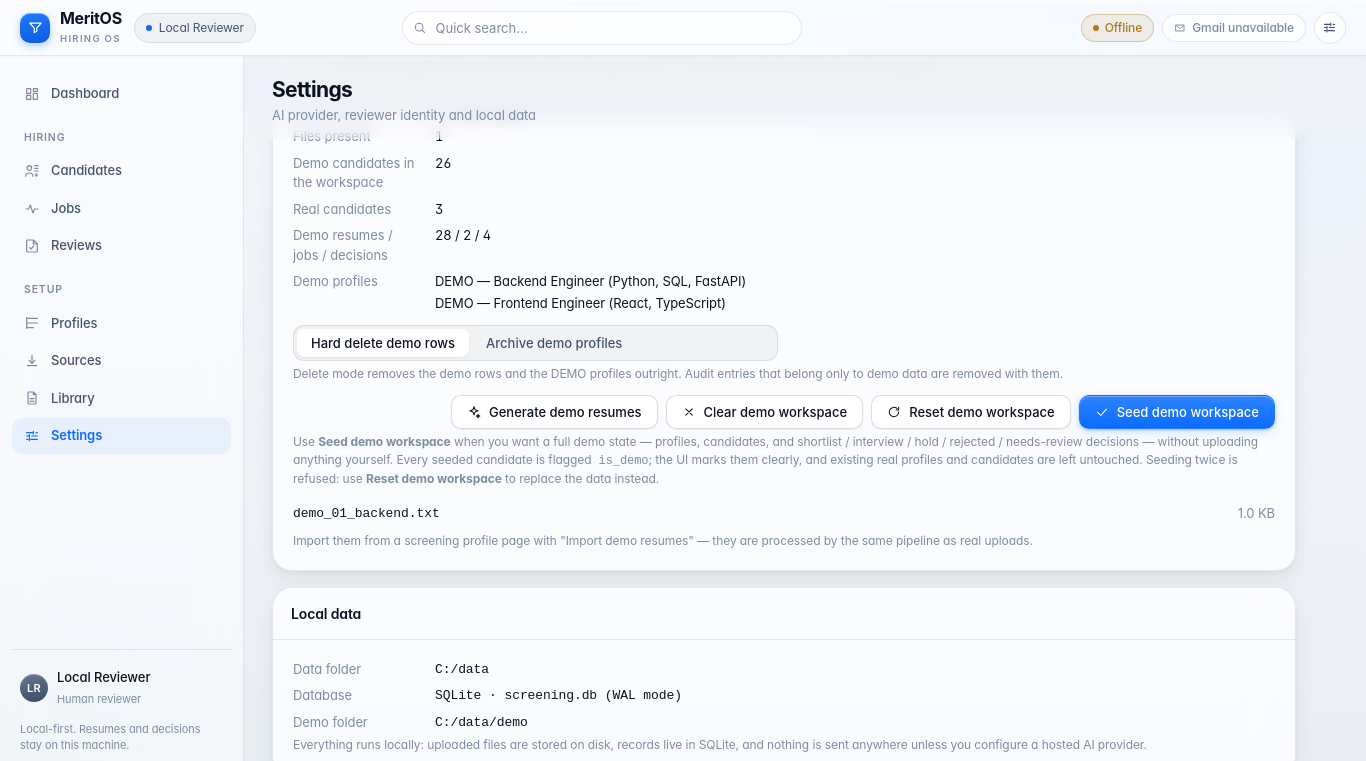
Scenario: demo workspace controls › seeds through the API and reports the counts in a toast
The image size is (1366, 761).
(page scrolled)
Click the button "Seed demo workspace". click: click(1177, 412)
box: x1=1079 y1=395 x2=1275 y2=429
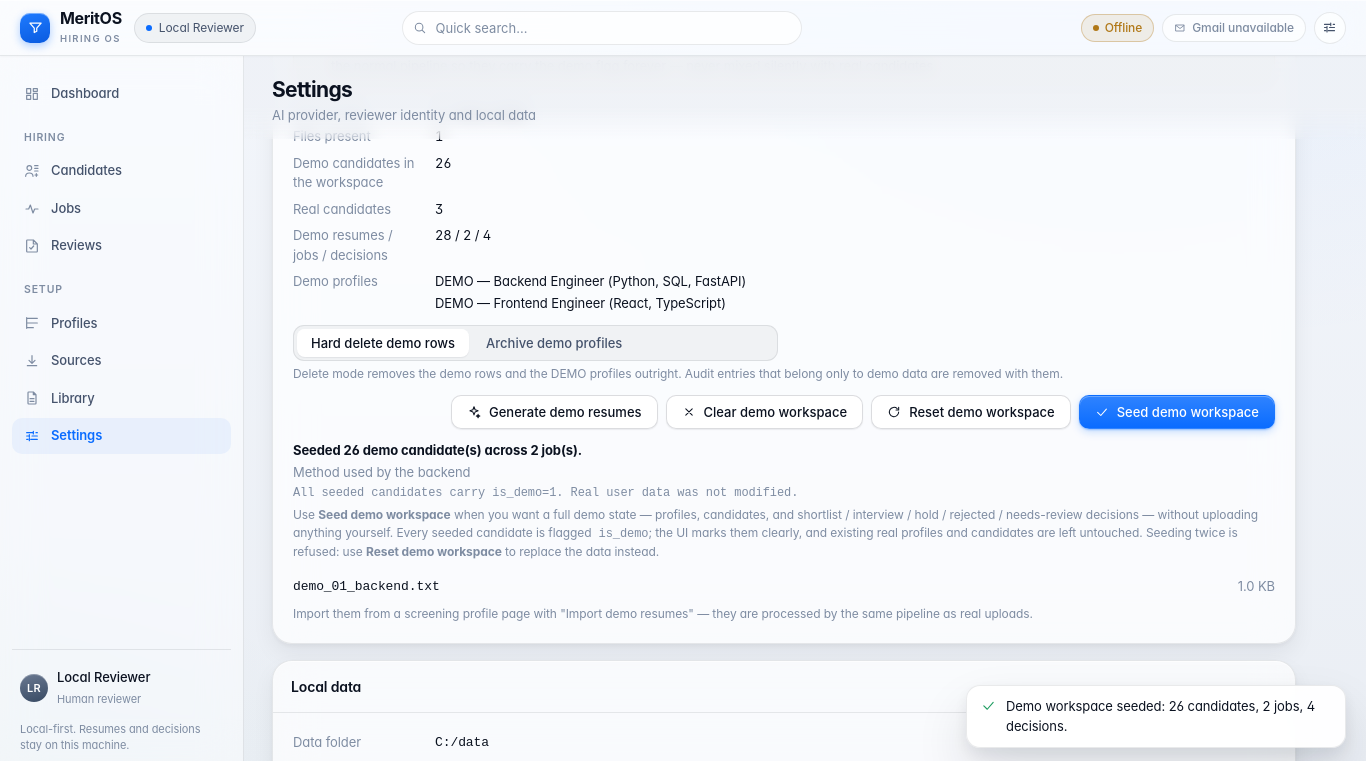
Now the text "Demo workspace seeded: 26 candidates, 2 jobs, 4 decisions." is shown, box x1=1006 y1=697 x2=1331 y2=736
